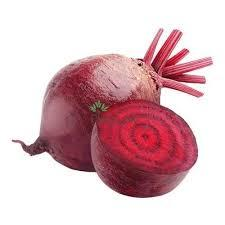non-mango: (89, 98, 198, 198)
